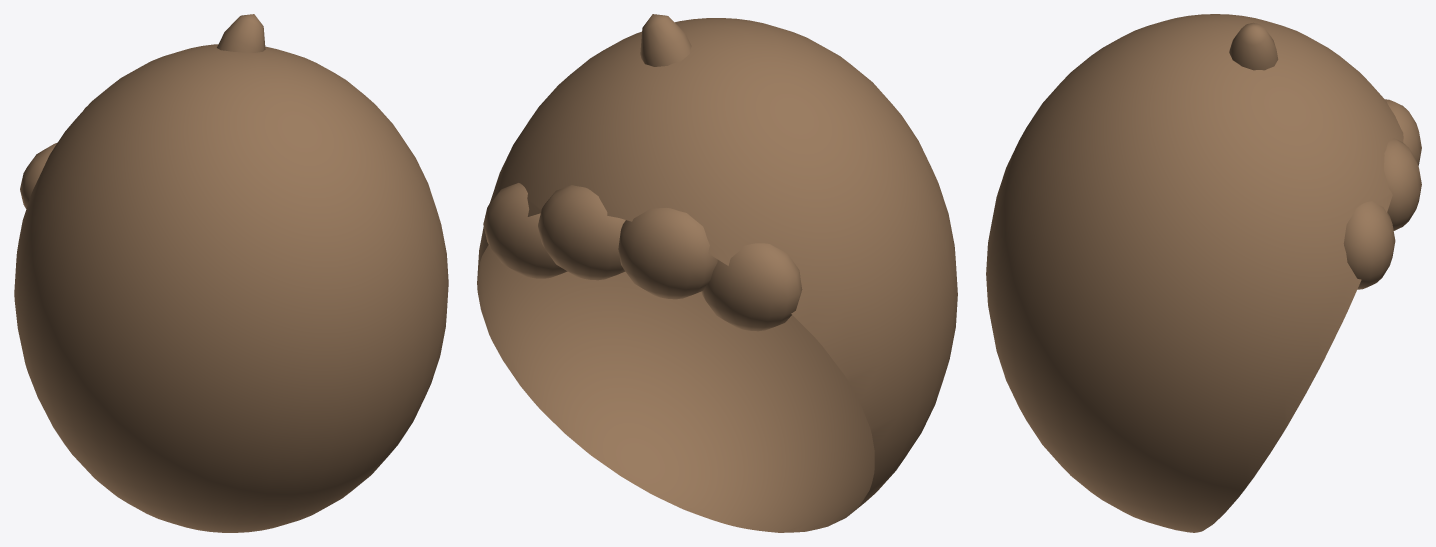
File: short.glb
The picture shows the model from 3 angles, left to right: view 1: azimuth 30°, elevation 25°; view 2: azimuth 150°, elevation 25°; view 3: azimuth 270°, elevation 25°; orthographic projection. The views are drawn at different scales.
Visible parts, largest first — view 1: Head; view 2: Head; view 3: Head.
Part boxes in pixels (box(x1,y1,x2,y2)): Head: box(14, 14, 448, 532); Head: box(477, 14, 957, 532); Head: box(986, 14, 1421, 532).
Size of the model in its own units: 0.2889 by 0.3482 by 0.272.
